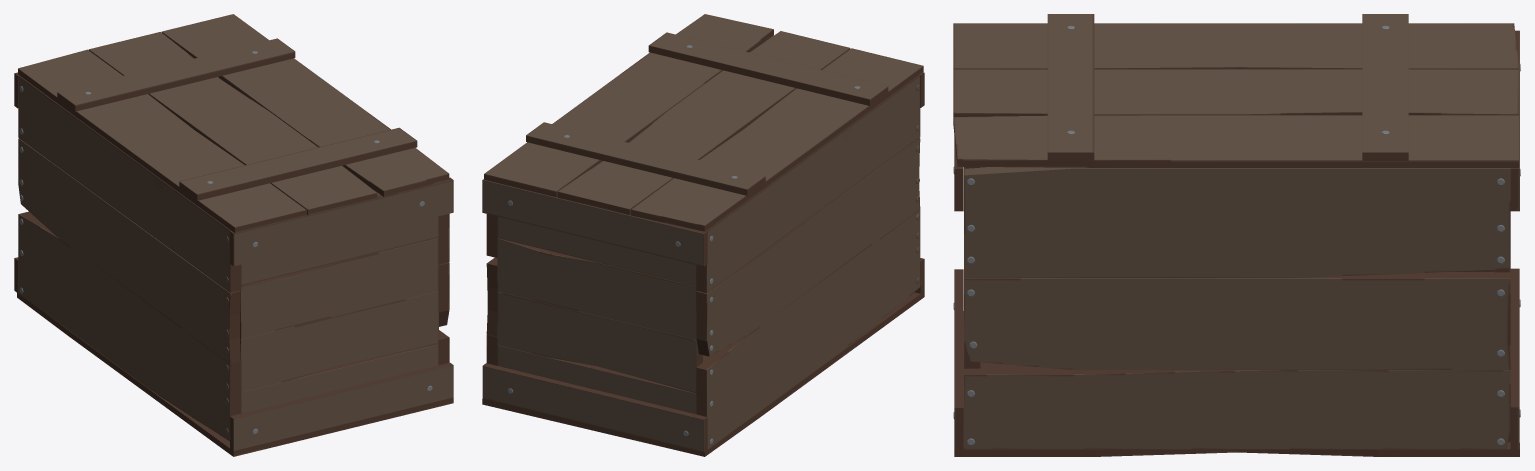
File: Crate_LidOn.fbx
The picture shows the model from 3 angles, left to right: view 1: azimuth 30°, elevation 25°; view 2: azimuth 150°, elevation 25°; view 3: azimuth 270°, elevation 25°; orthographic projection. The views are drawn at different scales.
Parts seen in each view (by area): view 1: Lid.003, Side_03.005, Side_02.005, Crate.005, Side_01.005; view 2: Lid.003, Side_03.005, Side_04.005, Crate.005, Side_01.005; view 3: Side_01.005, Lid.003, Crate.005, Side_04.005, Side_02.005.
Part boxes in pixels (bbox=[...]): Lid.003: bbox=[18, 14, 449, 233]; Side_03.005: bbox=[18, 75, 241, 441]; Side_02.005: bbox=[230, 177, 453, 451]; Crate.005: bbox=[17, 293, 453, 456]; Side_01.005: bbox=[438, 213, 449, 365]; Lid.003: bbox=[484, 14, 923, 231]; Side_03.005: bbox=[696, 75, 920, 449]; Side_04.005: bbox=[482, 179, 707, 452]; Crate.005: bbox=[482, 291, 924, 456]; Side_01.005: bbox=[486, 214, 497, 365]; Side_01.005: bbox=[964, 167, 1510, 449]; Lid.003: bbox=[953, 14, 1518, 167]; Crate.005: bbox=[954, 311, 1519, 456]; Side_04.005: bbox=[1494, 30, 1520, 449]; Side_02.005: bbox=[953, 136, 980, 449].
Size of the model in its own units: 71.89 by 73.52 by 124.
